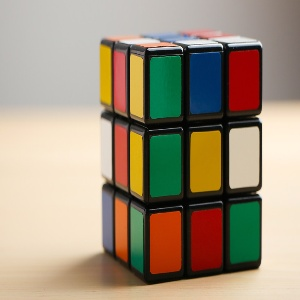cube: (99, 32, 262, 284)
